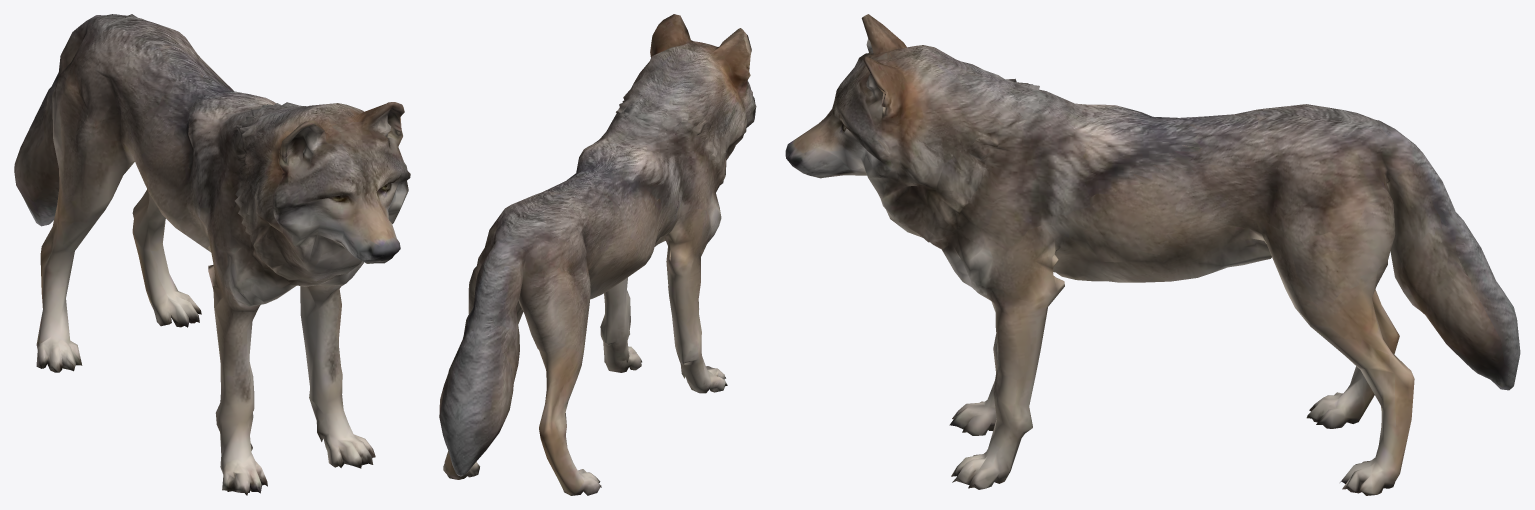
The model's file is animal_wolf.glb.
3 renders of one model, left to right at view 1: azimuth 30°, elevation 25°; view 2: azimuth 150°, elevation 25°; view 3: azimuth 270°, elevation 25°, orthographic. The views are drawn at different scales.
Visible parts, largest first — view 1: tripo_node_289e64c1-30ac-4815-b6b4-c24b0a62cf7b; view 2: tripo_node_289e64c1-30ac-4815-b6b4-c24b0a62cf7b; view 3: tripo_node_289e64c1-30ac-4815-b6b4-c24b0a62cf7b.
Boxes of the visible parts, x1,y1,x2,y2 form: tripo_node_289e64c1-30ac-4815-b6b4-c24b0a62cf7b: [14, 14, 410, 495]; tripo_node_289e64c1-30ac-4815-b6b4-c24b0a62cf7b: [439, 14, 756, 495]; tripo_node_289e64c1-30ac-4815-b6b4-c24b0a62cf7b: [785, 14, 1520, 495].
Bounding box in the file's own units: 0.2802 × 0.6161 × 0.9789.
1 material, 1 textured.
